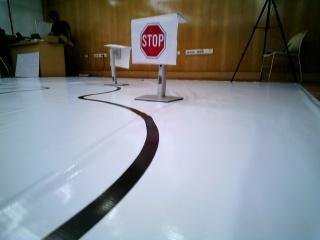stop: (131, 22, 176, 64)
